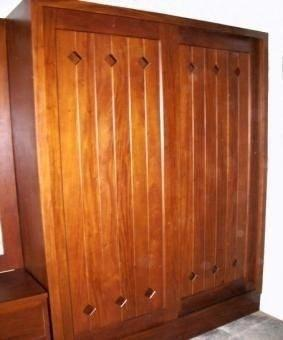Armario: (1, 1, 271, 331)
